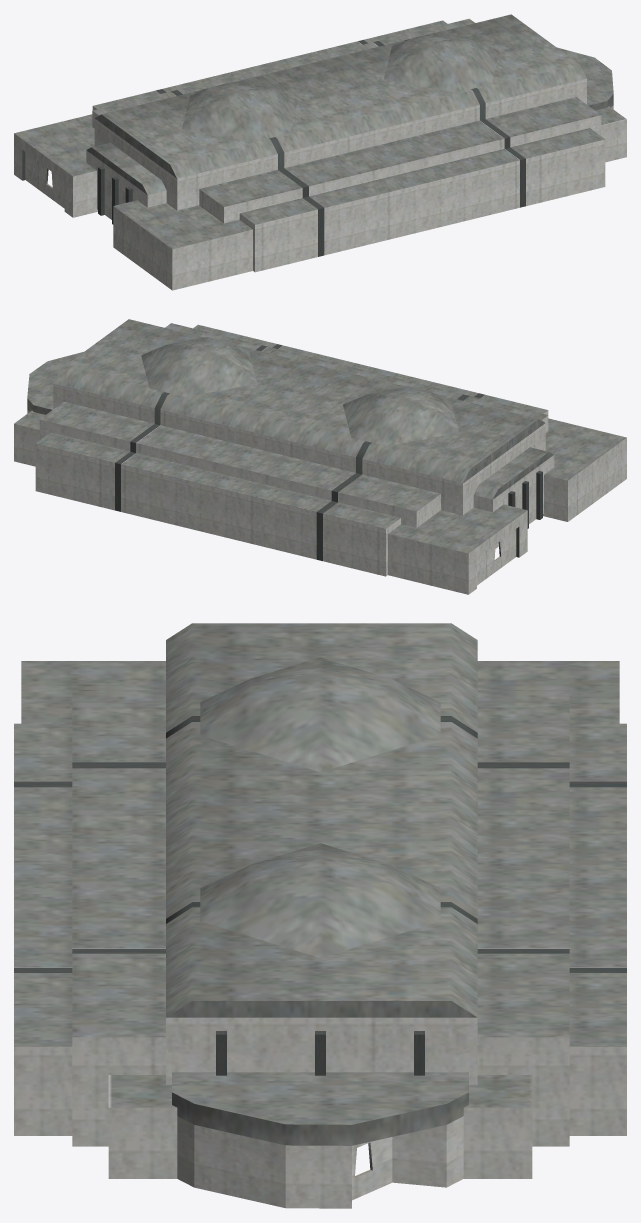
File: thm_corl_cantina_r0_mesh_l4.fbx
3 renders of one model, top to bottom at view 1: azimuth 30°, elevation 25°; view 2: azimuth 150°, elevation 25°; view 3: azimuth 270°, elevation 25°, orthographic. The views are drawn at different scales.
Visible parts, largest first — view 1: mesh_node; view 2: mesh_node; view 3: mesh_node.
Boxes of the visible parts, x1,y1,x2,y2 form: mesh_node: [14, 14, 626, 290]; mesh_node: [14, 319, 626, 594]; mesh_node: [14, 623, 626, 1208].
Size of the model in its own units: 101 by 19.97 by 55.66.
